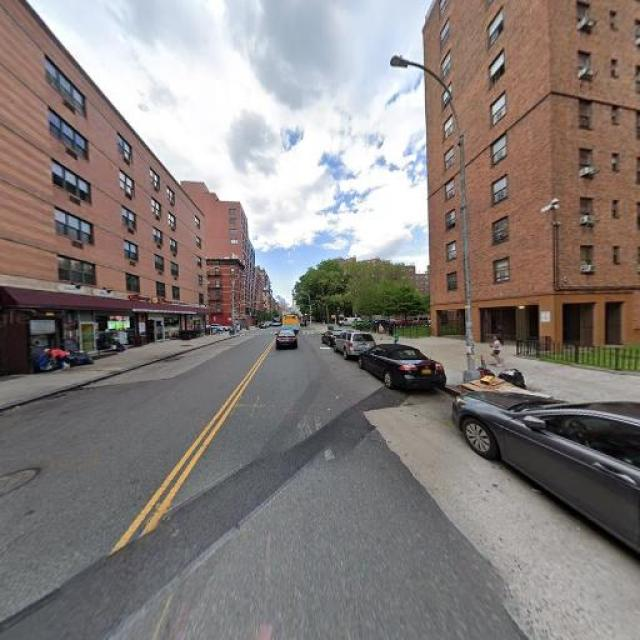Building: (1, 1, 207, 367), (433, 1, 548, 350)
